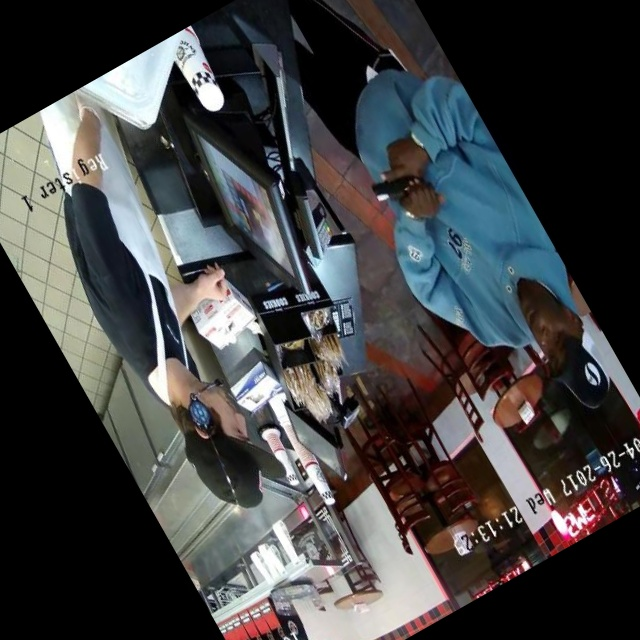gun: (348, 135, 459, 243)
